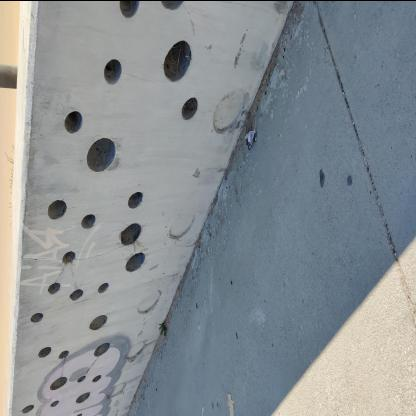karton: (226, 392, 234, 416)
plastik: (245, 127, 256, 149)
